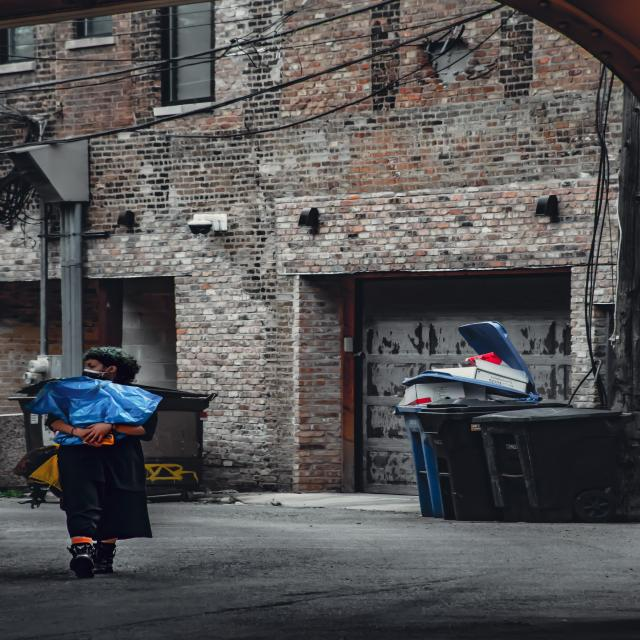cardboard: (458, 362, 521, 384)
trash: (54, 382, 146, 423)
